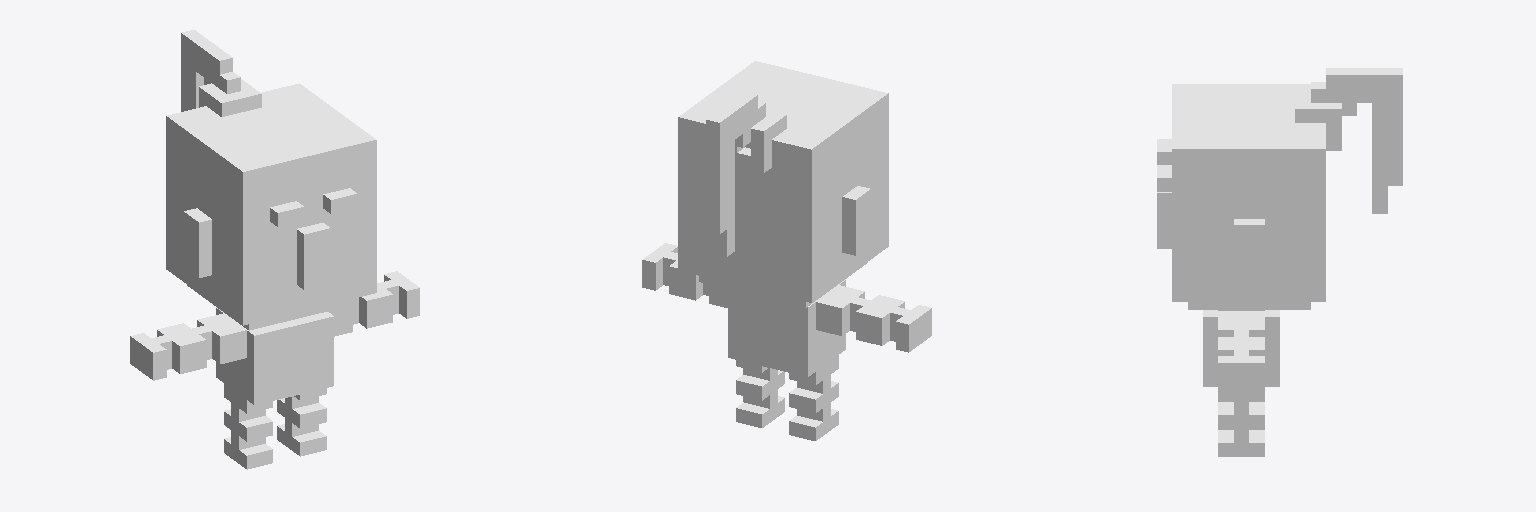
Rendered from FemaleCharacter.obj.
3 views of the same model, side by side, from view 1: azimuth 30°, elevation 25°; view 2: azimuth 150°, elevation 25°; view 3: azimuth 270°, elevation 25° (orthographic).
Parts seen in each view (by area): view 1: object 1; view 2: object 1; view 3: object 1.
Part boxes in pixels (x1,y1,x2,y2): object 1: (130, 30, 419, 469); object 1: (642, 61, 931, 440); object 1: (1157, 68, 1402, 456).
Bounding box in the file's own units: 2 × 2.6 × 1.6.